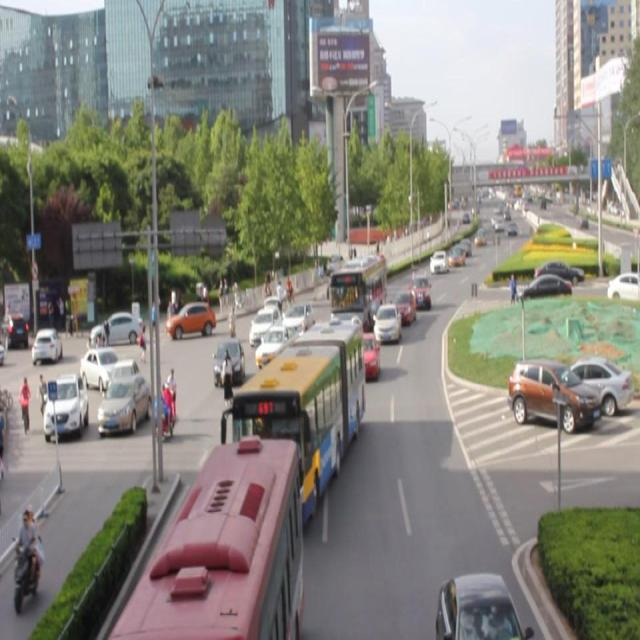car: (434, 571, 520, 640), (253, 363, 297, 423), (256, 326, 300, 364), (210, 331, 243, 379), (276, 293, 312, 336), (348, 332, 378, 380), (247, 298, 280, 340), (372, 304, 400, 342), (390, 287, 415, 323), (407, 274, 431, 310)
van: (114, 441, 299, 640), (231, 319, 362, 519), (329, 254, 386, 331)
